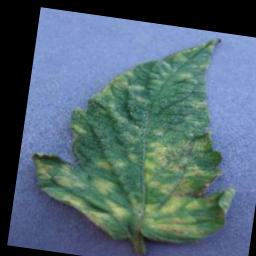Leaf_Mold: (21, 13, 256, 255)
